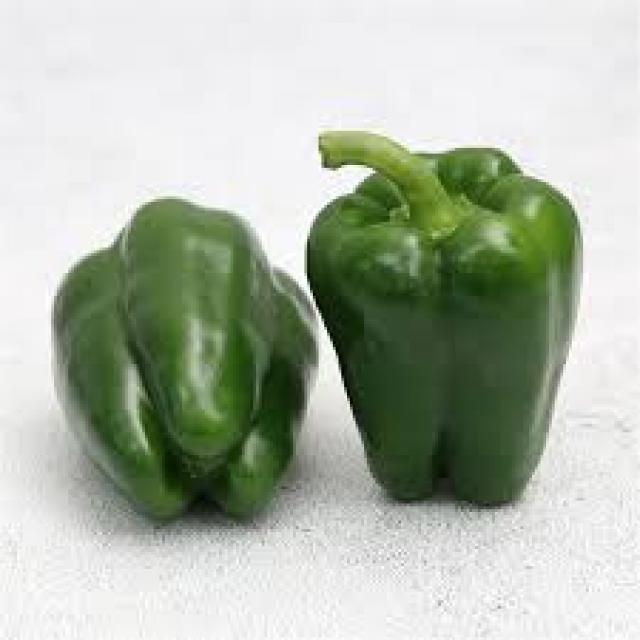Pepper: (304, 131, 586, 511), (50, 198, 315, 525)
